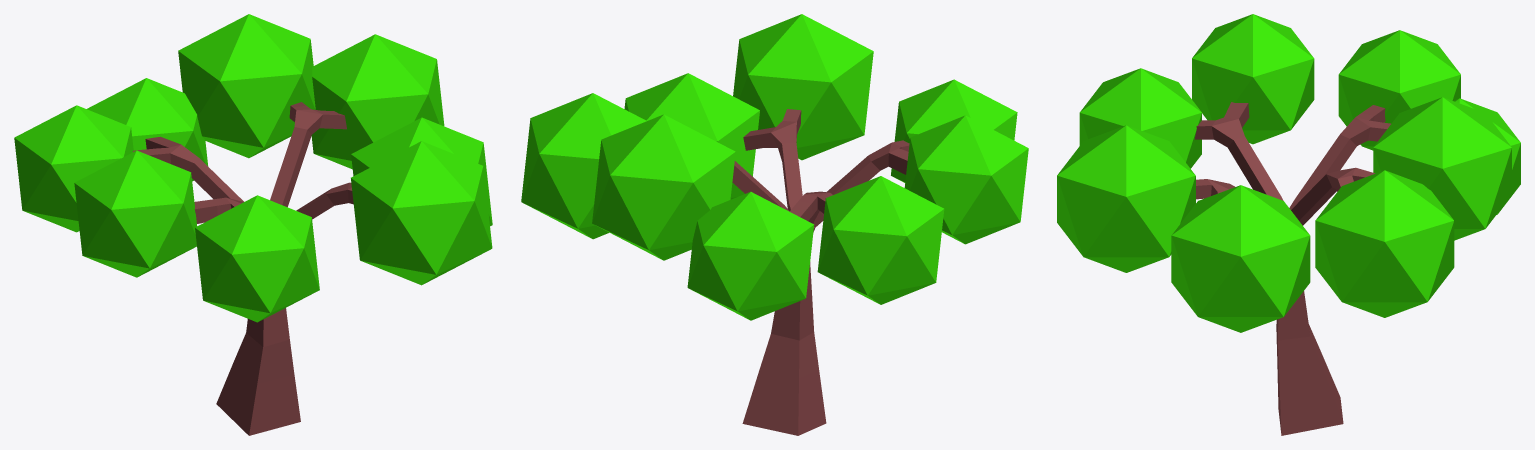
File: Arboll.fbx
3 views of the same model, side by side, from view 1: azimuth 30°, elevation 25°; view 2: azimuth 150°, elevation 25°; view 3: azimuth 270°, elevation 25° (orthographic). The views are drawn at different scales.
Visible parts, largest first — view 1: Icosphere.005; view 2: Icosphere.005; view 3: Icosphere.005.
Boxes of the visible parts, box(x1,y1,x2,y2) form: Icosphere.005: box(14, 14, 492, 435); Icosphere.005: box(521, 14, 1028, 435); Icosphere.005: box(1057, 14, 1520, 435).
Size of the model in its own units: 595 by 467 by 557.
